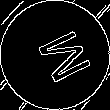M_SW: (22, 23, 88, 87)
